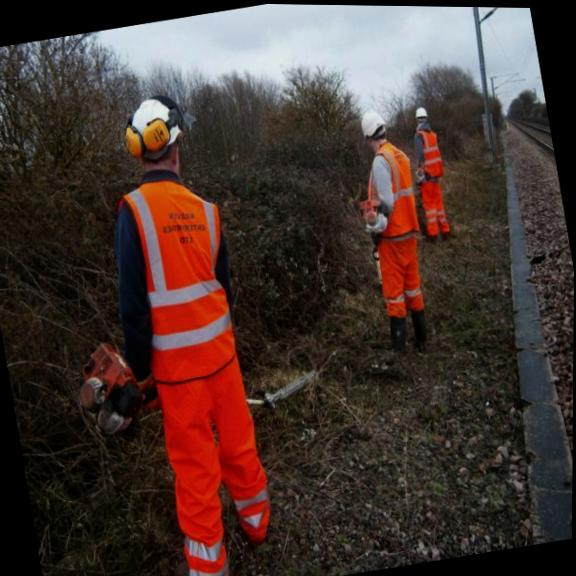safety_vest: (108, 166, 250, 392), (354, 138, 423, 247), (411, 125, 445, 183)
